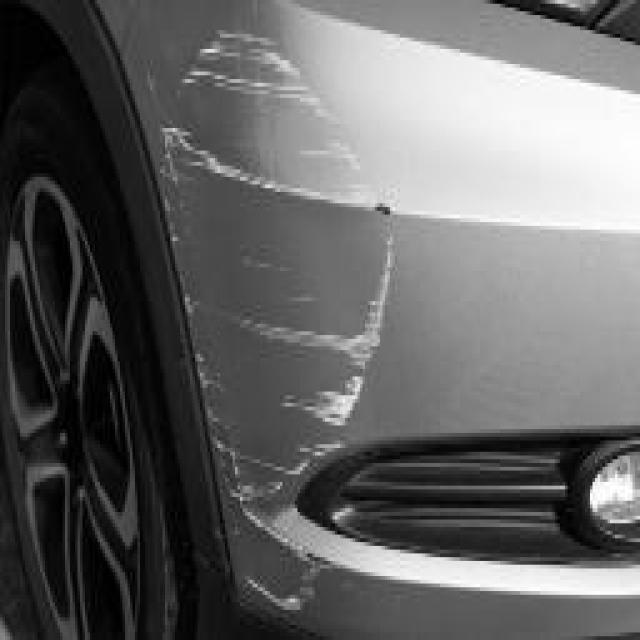Bumper: (150, 23, 420, 625)
